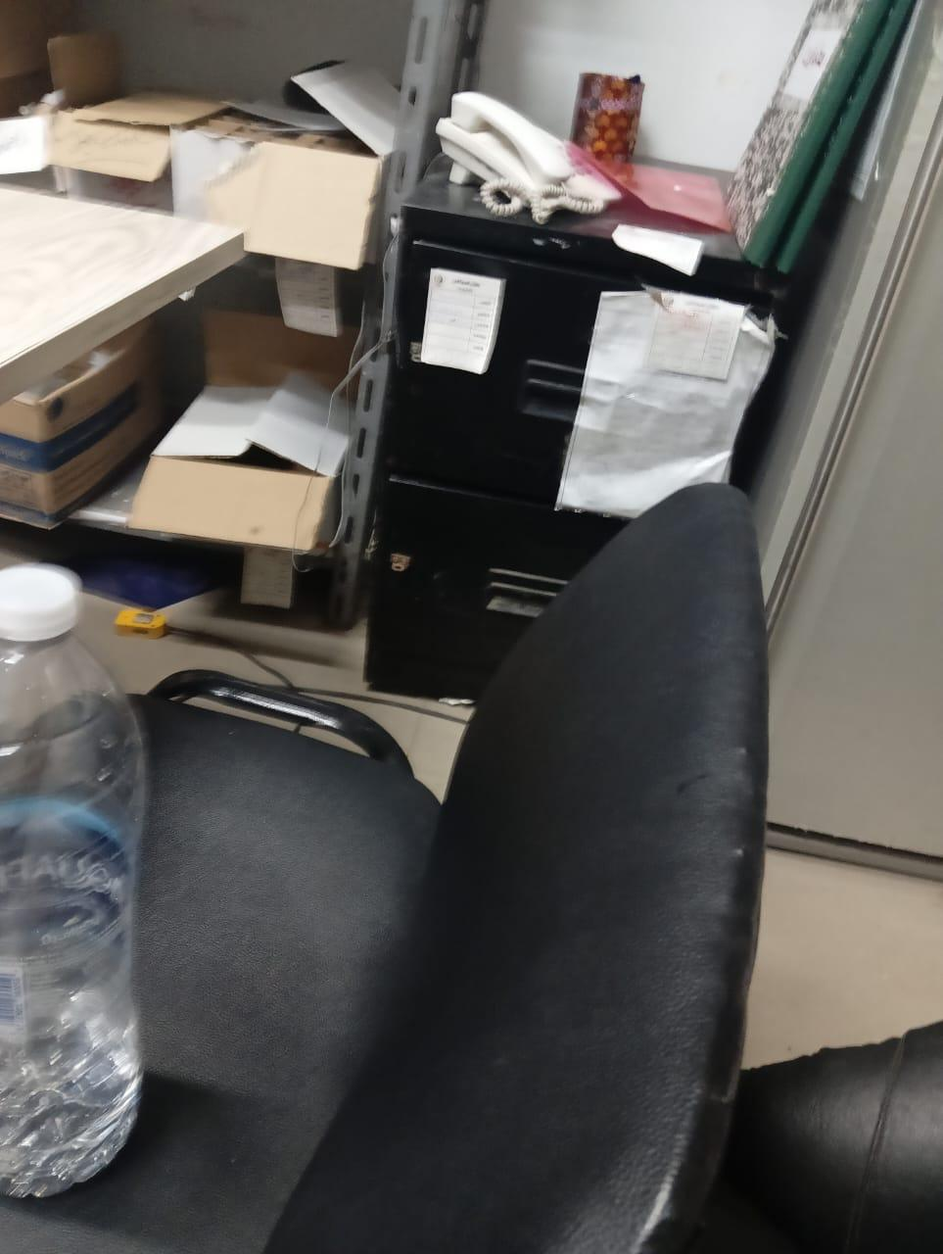Bottle: (0, 565, 143, 1195)
